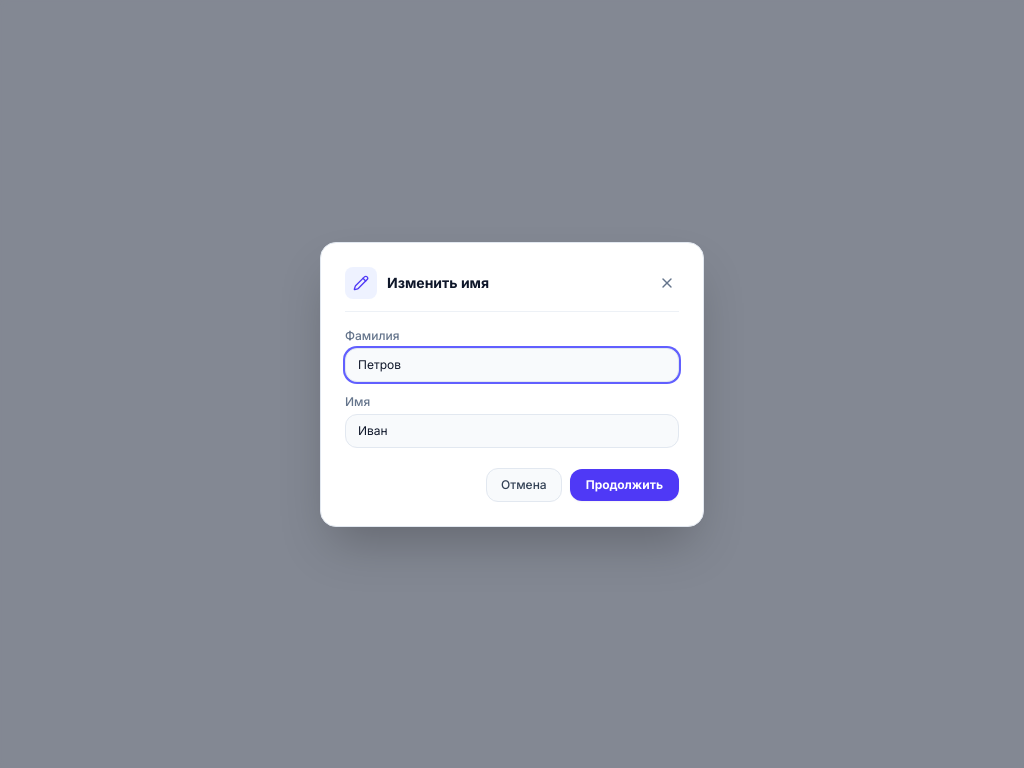
RenameNameModal › показывает «Имя не изменилось», если значения не изменились
Step 1. Replace the text in the field labelled "Имя" with "  Иван  " → (512, 430), box [345,414,679,448]
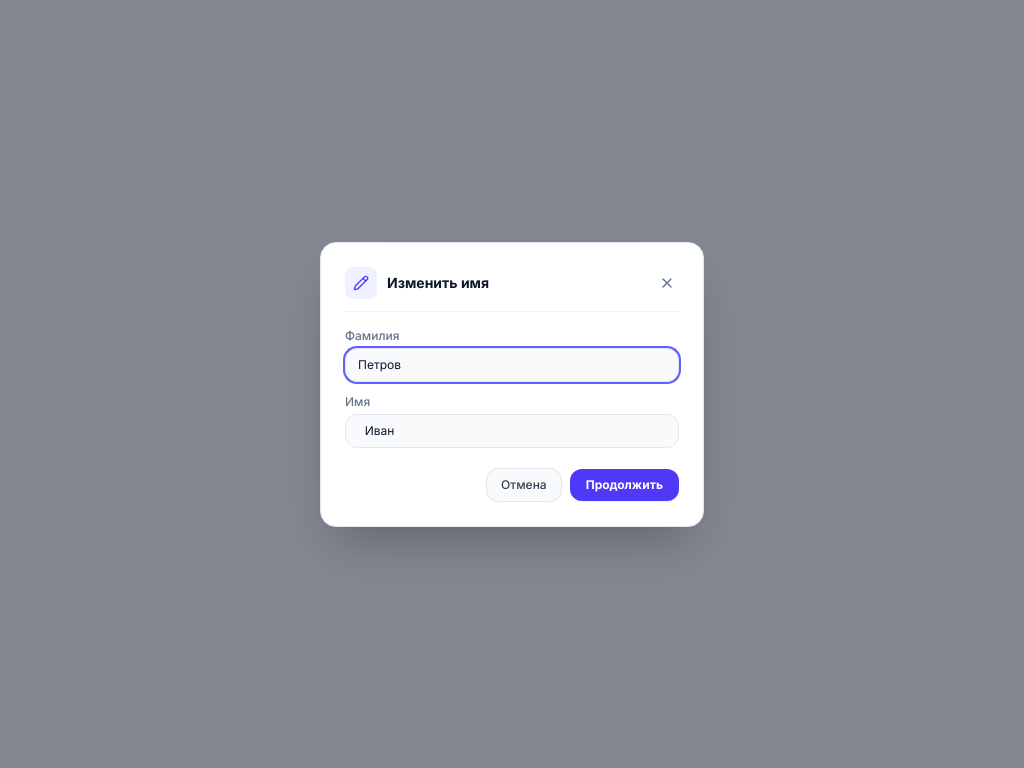
Step 2. Click the button "Продолжить" → (624, 484), box [570,468,679,500]
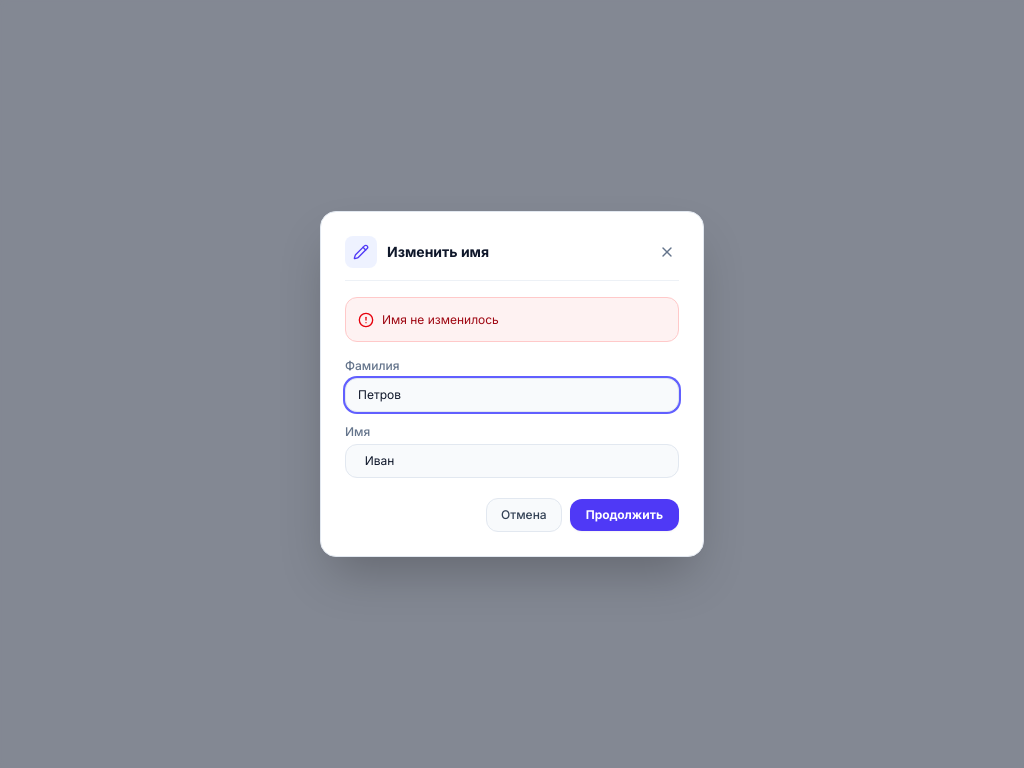
Check: the text "Имя не изменилось" is shown, box [382,310,499,329]
